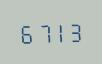one: (50, 20, 65, 43)
seven: (34, 20, 49, 44)
six: (18, 21, 33, 44)
three: (66, 19, 81, 42)
